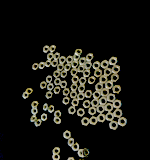nut: (118, 117, 129, 127), (101, 88, 111, 98), (110, 121, 119, 132), (78, 149, 87, 159), (64, 130, 73, 140), (53, 109, 63, 118), (114, 109, 124, 118), (90, 116, 99, 126), (98, 113, 107, 123), (105, 103, 114, 113), (94, 69, 104, 78), (72, 142, 80, 153), (82, 149, 91, 158), (77, 108, 86, 117), (52, 70, 61, 79), (83, 100, 92, 109), (97, 105, 106, 114), (115, 100, 124, 109), (91, 98, 100, 107), (106, 81, 115, 90), (112, 65, 121, 74), (93, 61, 102, 70), (100, 75, 109, 84), (66, 55, 75, 64), (107, 112, 115, 122), (89, 107, 97, 117), (113, 86, 123, 94), (68, 138, 76, 147), (82, 118, 90, 127), (30, 108, 39, 116), (31, 100, 40, 108), (54, 117, 63, 125), (48, 104, 56, 113), (45, 91, 54, 99), (51, 59, 59, 68), (63, 97, 72, 105), (69, 91, 78, 99), (85, 90, 93, 99), (70, 83, 79, 91), (77, 85, 86, 93), (88, 77, 97, 85), (100, 97, 108, 106), (110, 57, 118, 66), (111, 74, 120, 82), (79, 77, 88, 85), (83, 70, 92, 78), (85, 61, 94, 69), (71, 60, 80, 68), (52, 148, 62, 155), (34, 119, 42, 127), (41, 114, 49, 122), (30, 115, 38, 123), (25, 87, 33, 95), (47, 83, 55, 91), (45, 76, 53, 84), (53, 52, 61, 60), (69, 107, 77, 115), (72, 99, 80, 107), (63, 88, 71, 96), (54, 86, 62, 94), (54, 78, 62, 86), (77, 93, 85, 101), (108, 94, 116, 102), (94, 91, 102, 99), (96, 83, 104, 91), (101, 60, 109, 68), (88, 77, 96, 85), (79, 57, 87, 65), (71, 68, 79, 76), (32, 62, 39, 71), (50, 45, 57, 54), (61, 80, 68, 89), (86, 54, 95, 61), (60, 70, 69, 77), (42, 103, 49, 111), (40, 81, 47, 89), (39, 62, 46, 70), (45, 60, 52, 68), (46, 53, 54, 60), (57, 64, 65, 71), (59, 56, 66, 64), (72, 76, 80, 83), (105, 68, 112, 76), (78, 66, 86, 73), (53, 154, 62, 160), (75, 49, 84, 55), (23, 92, 30, 99), (43, 46, 50, 53), (74, 54, 81, 61), (65, 64, 72, 71), (43, 103, 49, 111), (67, 158, 76, 160), (76, 159, 83, 160)
